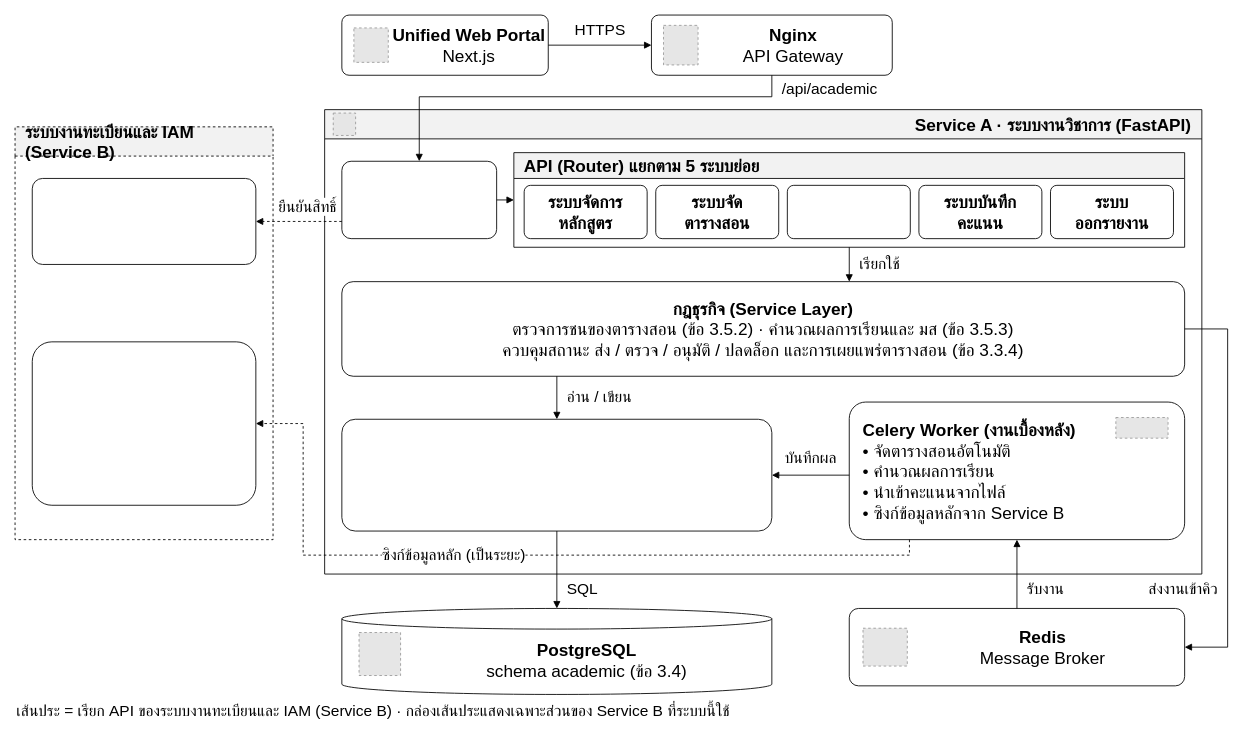
This 1250x738 diagram has some shape labels left out. Grey dashed boxes stand in for pictures. Each missing label, with the centre of its shape:
"IAM ยืนยันตัวตนและสิทธิ์ผู้ใช้" goes at (143,221).
"Internal API: ข้อมูลหลัก ครูและผู้ใช้ นักเรียนและห้องเรียน ปีการศึกษาและภาคเรียน" goes at (143,423).
"Repository (SQLAlchemy) ชั้นเดียวที่อ่านและเขียนฐานข้อมูล" goes at (556,474).
"ตรวจสิทธิ์ Token และบทบาท" goes at (419,199).
"ระบบเช็คชื่อ" goes at (848,211).
